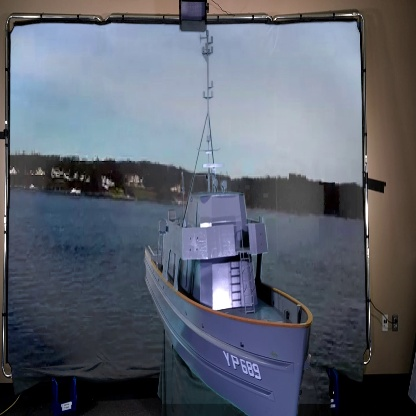YP689: (145, 30, 313, 416)
